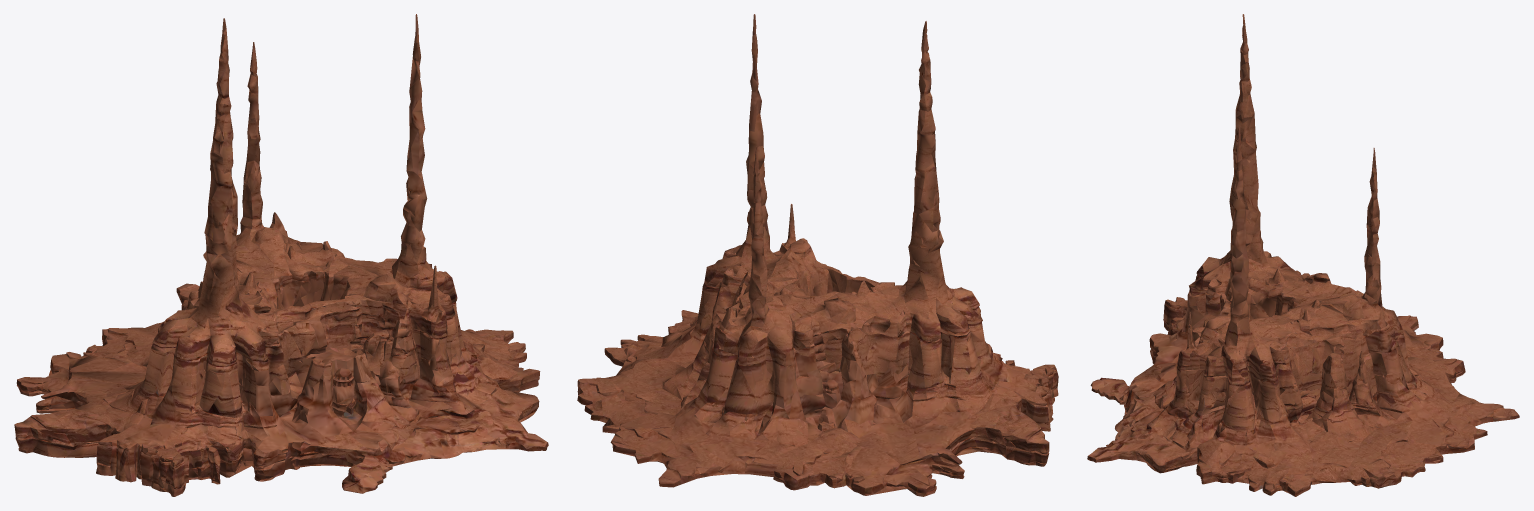
File: geohive.lod1.glb
3 renders of one model, left to right at view 1: azimuth 30°, elevation 25°; view 2: azimuth 150°, elevation 25°; view 3: azimuth 270°, elevation 25°, orthographic. The views are drawn at different scales.
Visible parts, largest first — view 1: geohive; view 2: geohive; view 3: geohive.
Part boxes in pixels (x1,y1,x2,y2): geohive: (14, 14, 548, 496); geohive: (577, 14, 1058, 496); geohive: (1087, 14, 1519, 496).
Size of the model in its own units: 184 by 150 by 167.
1 material, 1 textured.
